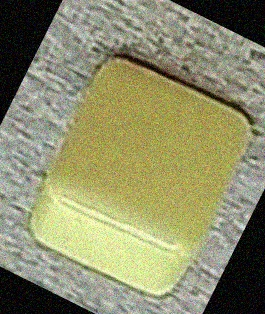yellow_cube: (28, 48, 250, 305)
